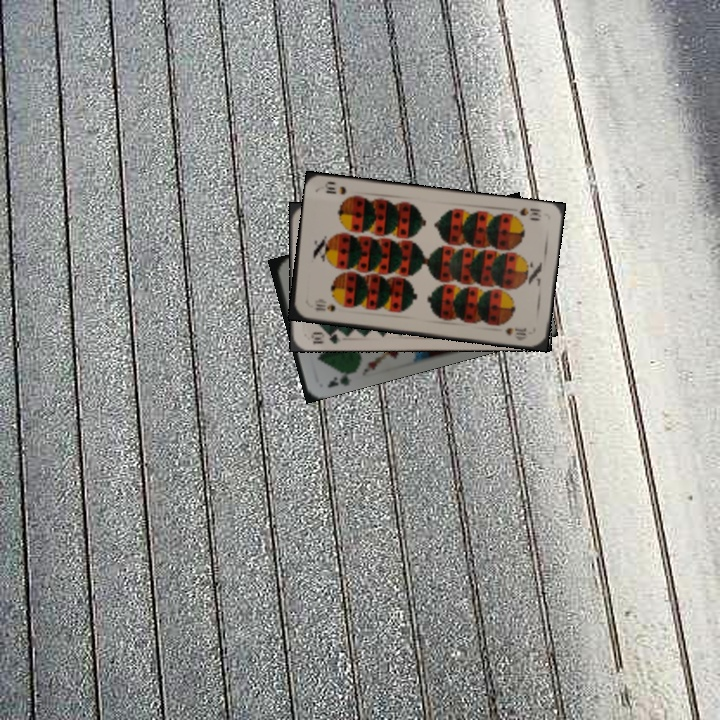G10: (307, 327, 345, 346)
GK: (324, 368, 354, 390)
S10: (516, 203, 544, 223), (311, 300, 338, 314)
